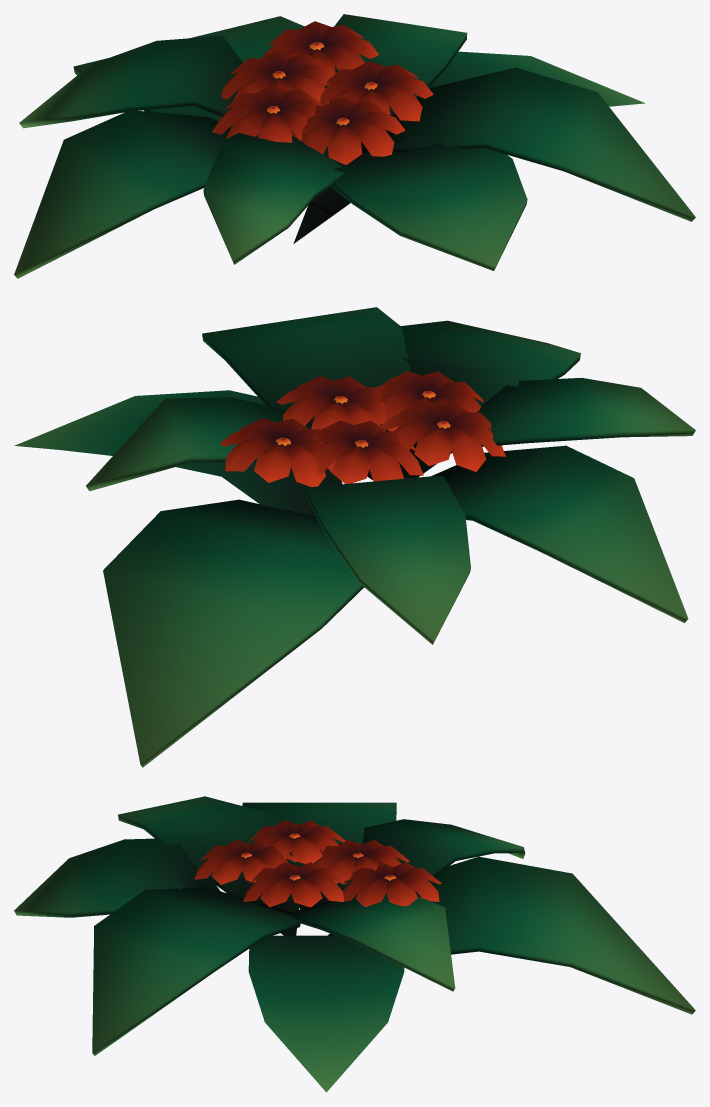
File: Flower_18.fbx
3 renders of one model, top to bottom at view 1: azimuth 30°, elevation 25°; view 2: azimuth 150°, elevation 25°; view 3: azimuth 270°, elevation 25°, orthographic. The views are drawn at different scales.
Parts seen in each view (by area): view 1: Flower_18; view 2: Flower_18; view 3: Flower_18.
Boxes of the visible parts, box(x1,y1,x2,y2) form: Flower_18: box(14, 14, 695, 278); Flower_18: box(14, 307, 695, 767); Flower_18: box(14, 796, 695, 1092).
Bounding box in the file's own units: 0.6737 × 0.1867 × 0.7136.
